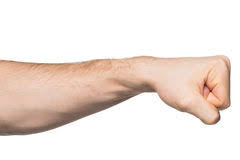fist: (154, 47, 234, 122)
